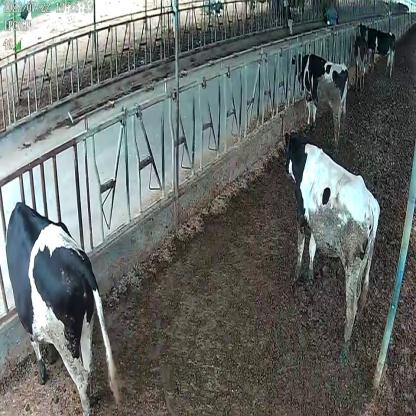cow: (5, 200, 124, 416), (282, 129, 382, 356), (291, 51, 350, 145), (353, 37, 368, 94)
